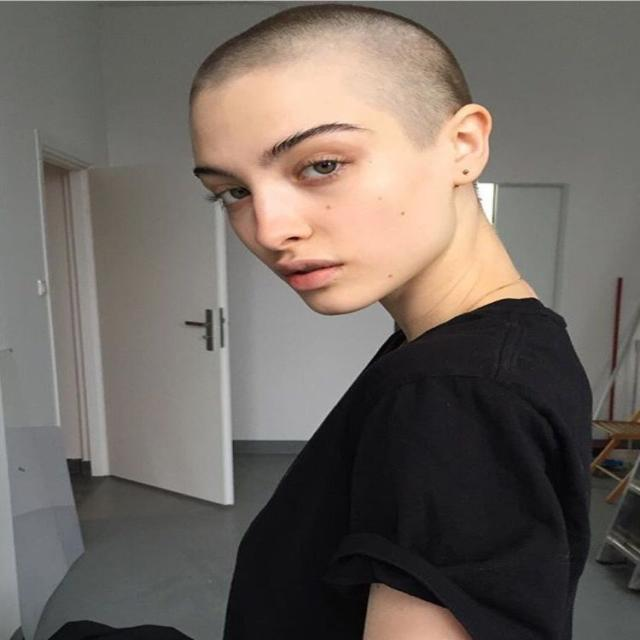no_helmet: (171, 0, 536, 207)
